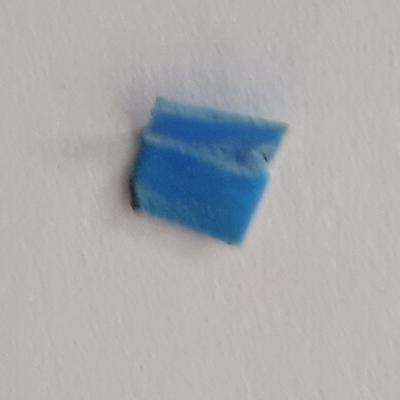plastic: (123, 93, 296, 250)
